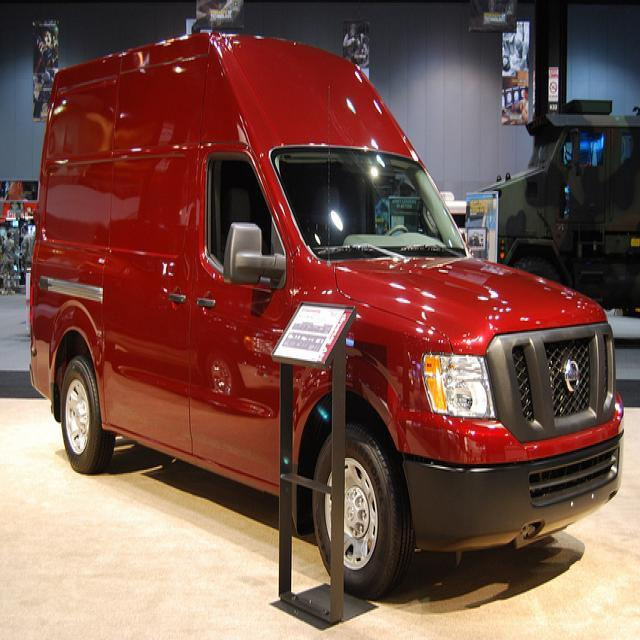Van: (4, 14, 640, 619)
